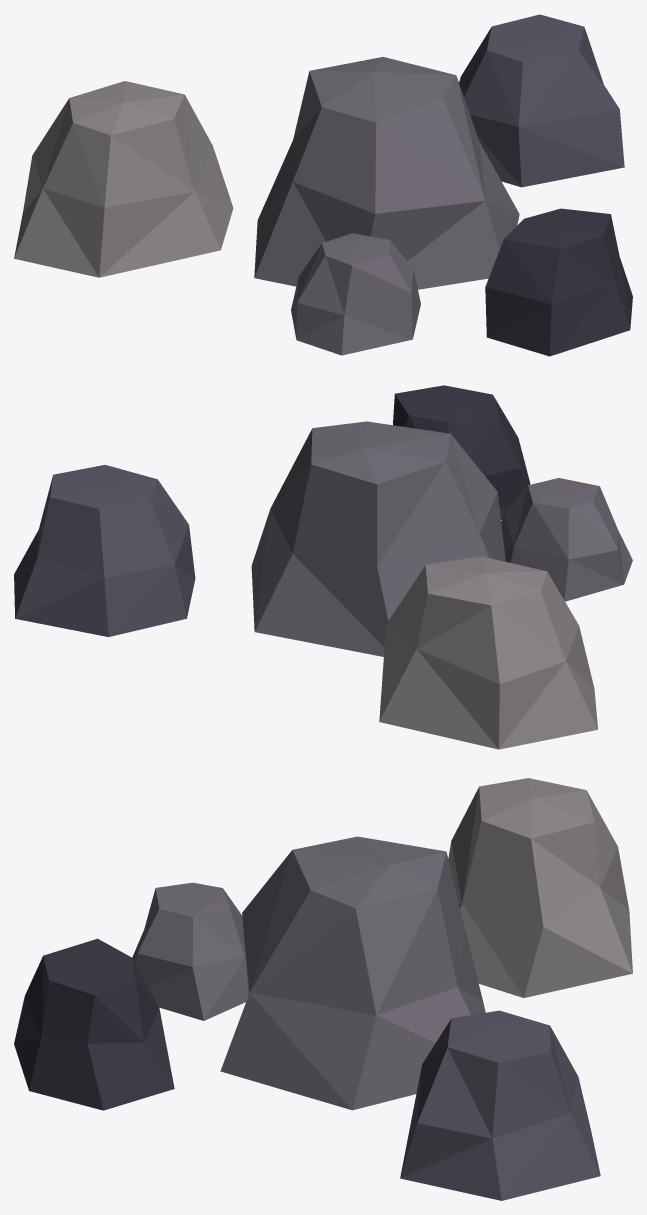
The model's file is rubble_a.fbx.
The picture shows the model from 3 angles, top to bottom: view 1: azimuth 30°, elevation 25°; view 2: azimuth 150°, elevation 25°; view 3: azimuth 270°, elevation 25°; orthographic projection. The views are drawn at different scales.
Parts seen in each view (by area): view 1: rubble_a; view 2: rubble_a; view 3: rubble_a.
Boxes of the visible parts, bbox=[...] form: rubble_a: bbox=[14, 14, 632, 356]; rubble_a: bbox=[14, 385, 632, 749]; rubble_a: bbox=[14, 778, 632, 1200].
Bounding box in the file's own units: 2.23 × 0.5768 × 1.83.
